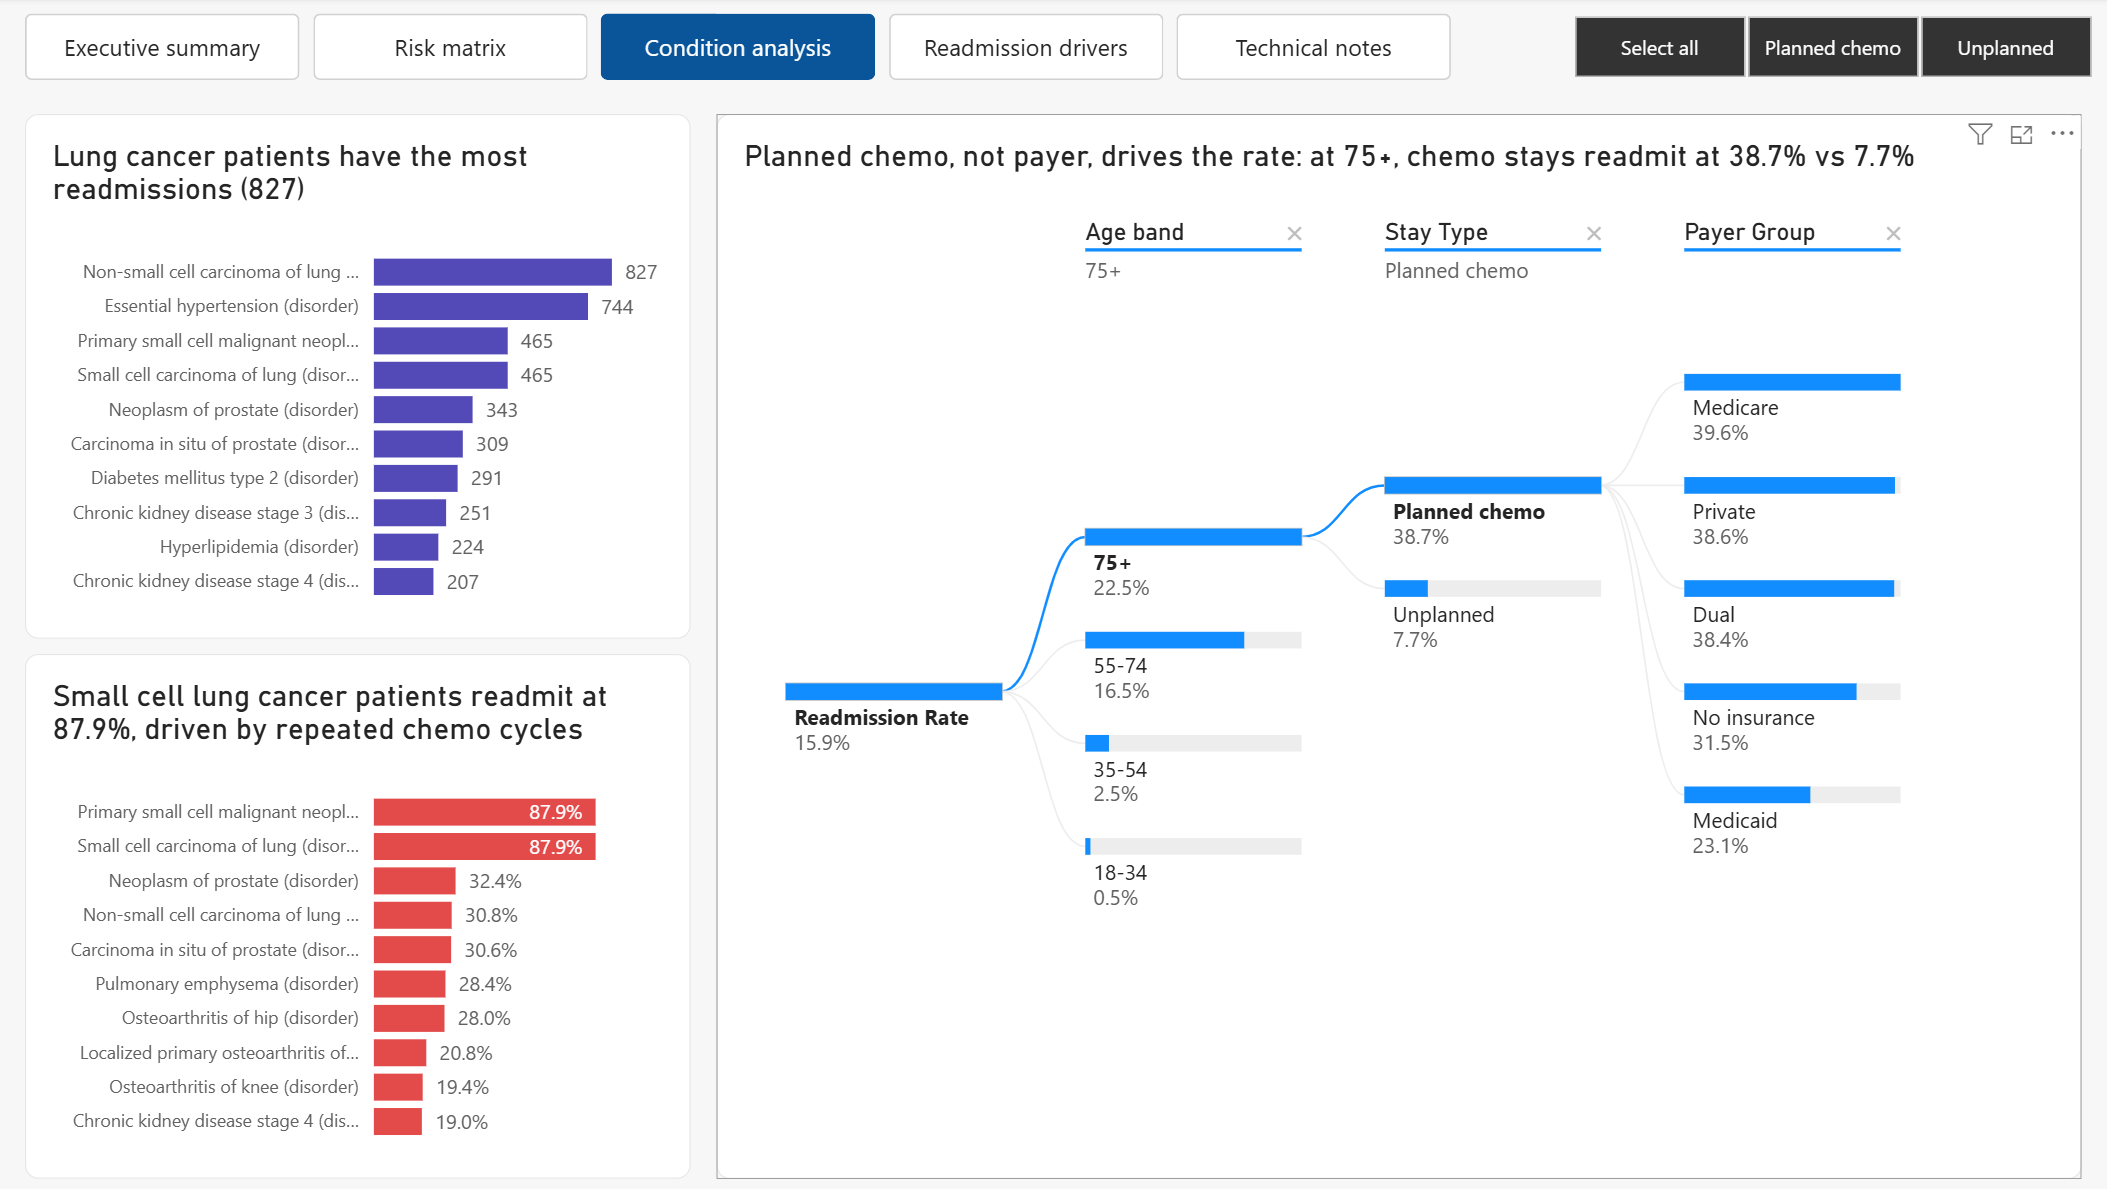

Layout of this report page (visuals, bound fields, positions):
{"tool":"powerbi","page":{"name":"Condition analysis","canvas":[1280,720],"ordinal":2},"visuals":[{"type":"slicer","fields":{"Values":["fact_encounters.Stay Type"]},"box":[930,10,350,40],"z":0},{"type":"clusteredBarChart","title":"Lung cancer patients have the most readmissions (827)","fields":{"Category":["dim_conditions.DESCRIPTION"],"Y":["_Measures.Total Readmissions by Condition"]},"box":[20,70,400,315],"z":1000},{"type":"clusteredBarChart","title":"Small cell lung cancer patients readmit at 87.9%, driven by repeated chemo cycles","fields":{"Category":["dim_conditions.DESCRIPTION"],"Y":["_Measures.Rate (200+ stays)"]},"box":[20,395,400,315],"z":2000},{"type":"decompositionTreeVisual","title":"Planned chemo, not payer, drives the rate: at 75+, chemo stays readmit at 38.7% vs 7.7%","fields":{"Analyze":["_Measures.Readmission Rate by Condition"],"ExplainBy":["dim_patients.age_band","fact_encounters.Stay Type","dim_payers.Payer Group"]},"box":[435.4,70.3,820.4,640.1],"z":3000},{"type":"pageNavigator","box":[20,10,860,40],"z":4000}]}

Visuals, with their boxes in screenshot pixels (x1, y1, x2, y2), scaled from the page's 1280x720 canvas onto the 2107x1189 screenshot:
slicer - fact_encounters.Stay Type: 1531 17 2106 83
"Lung cancer patients have the most readmissions (827)" clusteredBarChart: 33 116 691 636
"Small cell lung cancer patients readmit at 87.9%, driven by repeated chemo cycles" clusteredBarChart: 33 652 691 1172
"Planned chemo, not payer, drives the rate: at 75+, chemo stays readmit at 38.7% vs 7.7%" decompositionTreeVisual: 717 116 2067 1173
pageNavigator: 33 17 1449 83
